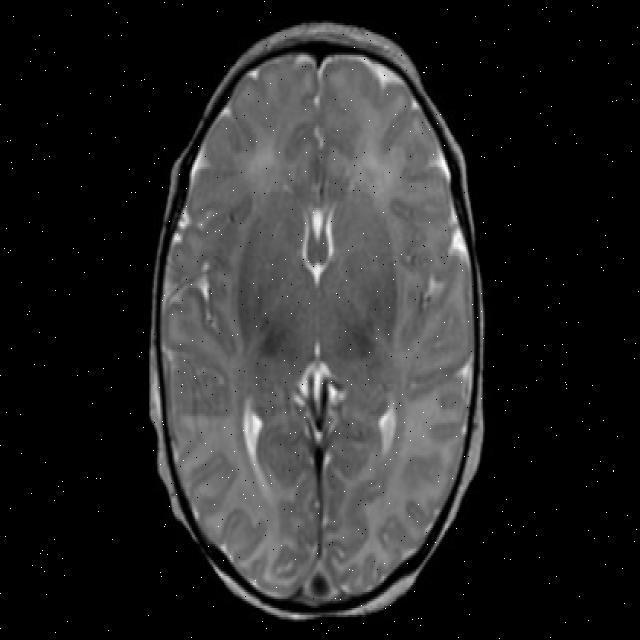No_Tumor: (150, 23, 483, 620)
